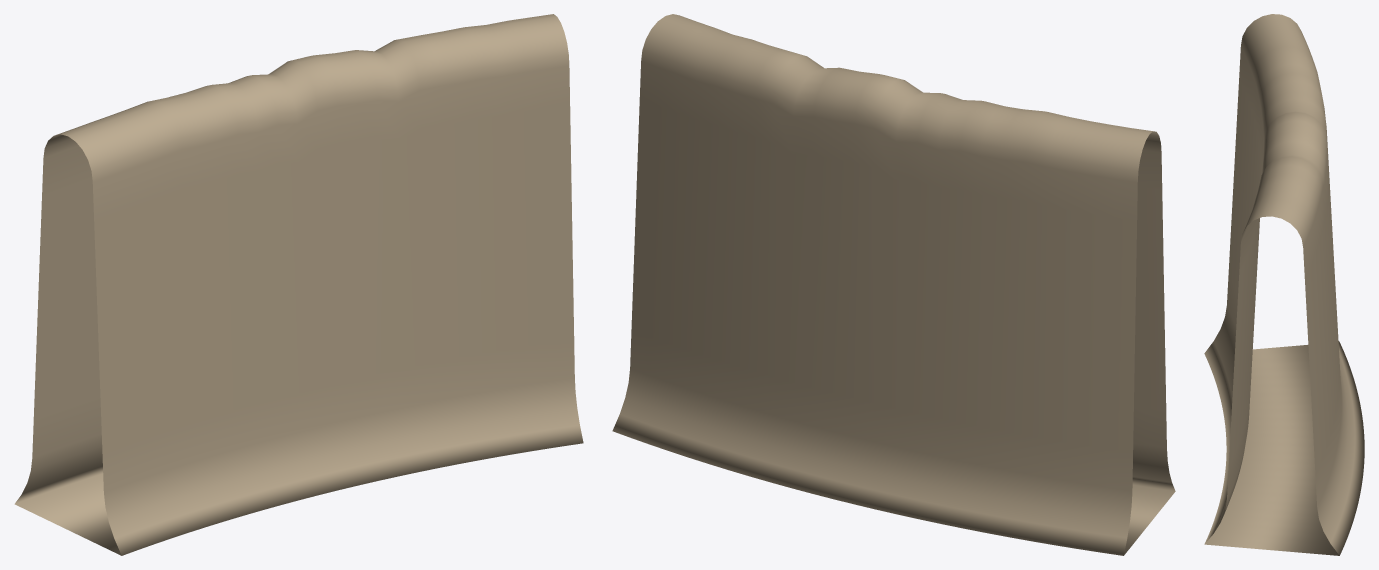
File: KFB_Wall_curved_ring_r3.r1.glb
3 views of the same model, side by side, from view 1: azimuth 30°, elevation 25°; view 2: azimuth 150°, elevation 25°; view 3: azimuth 270°, elevation 25° (orthographic). The views are drawn at different scales.
Parts seen in each view (by area): view 1: KFB_Wall_curved_ring_r3; view 2: KFB_Wall_curved_ring_r3; view 3: KFB_Wall_curved_ring_r3.
Part boxes in pixels (box(x1,y1,x2,y2)): KFB_Wall_curved_ring_r3: box(14, 14, 583, 555); KFB_Wall_curved_ring_r3: box(612, 14, 1175, 555); KFB_Wall_curved_ring_r3: box(1204, 14, 1364, 555).
Size of the model in its own units: 4.95 by 3.63 by 1.57.
